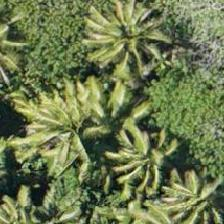coconut_tree: (36, 71, 126, 161), (134, 140, 223, 223), (89, 0, 179, 76)
